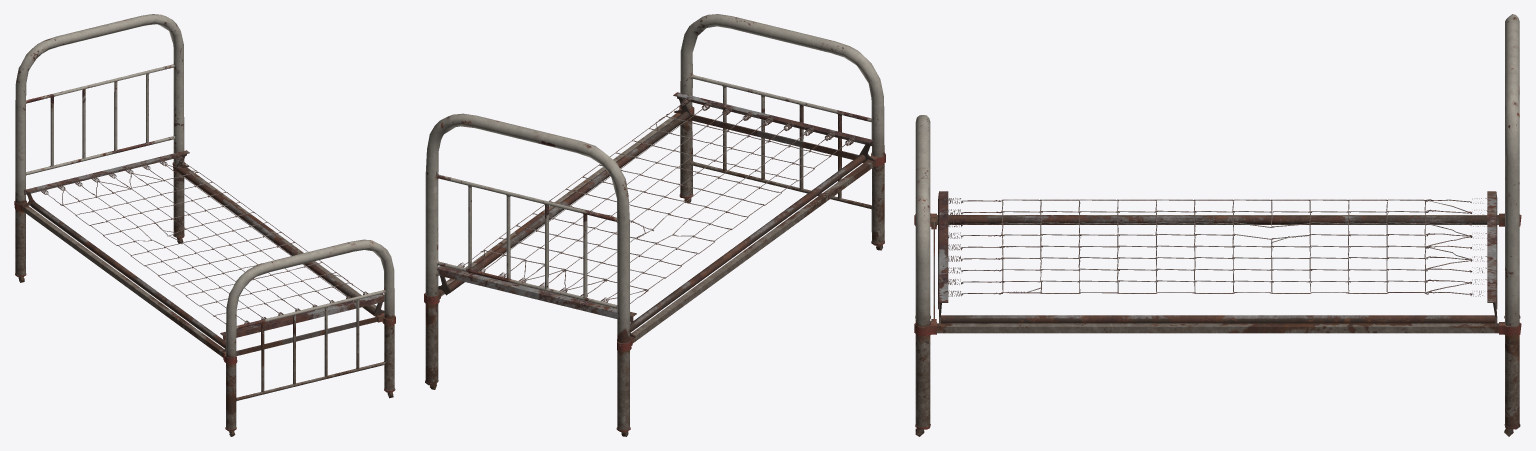
Rendered from old_bed_frame_lod1.glb.
3 views of the same model, side by side, from view 1: azimuth 30°, elevation 25°; view 2: azimuth 150°, elevation 25°; view 3: azimuth 270°, elevation 25° (orthographic). The views are drawn at different scales.
Parts seen in each view (by area): view 1: old_bed_frame; view 2: old_bed_frame; view 3: old_bed_frame.
Part boxes in pixels (left/top/right/bottom): old_bed_frame: left=14, top=14, right=395, bottom=436; old_bed_frame: left=424, top=14, right=885, bottom=436; old_bed_frame: left=914, top=14, right=1521, bottom=436.
Size of the model in its own units: 0.9047 by 1.2 by 2.
1 material, 1 textured.
